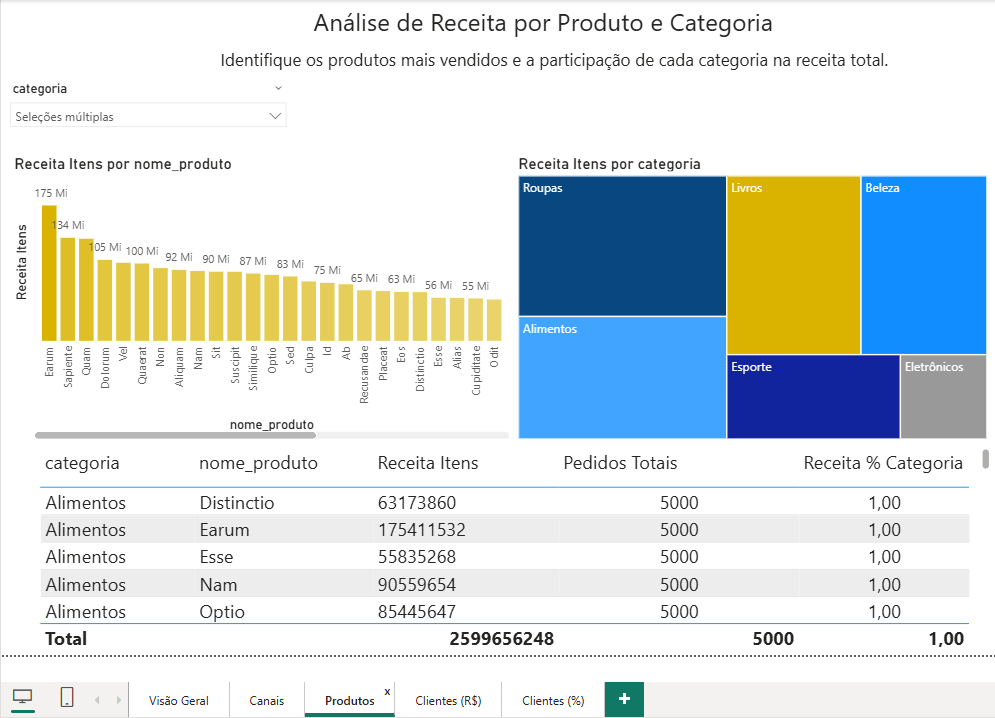

Layout of this report page (visuals, bound fields, positions):
{"tool":"powerbi","page":{"name":"Produtos","canvas":[1280,720],"ordinal":2},"visuals":[{"type":"columnChart","fields":{"Category":["products.nome_produto"],"Y":["Medidas.Receita Itens"]},"box":[10.4,169.6,553.8,318.5],"z":0},{"type":"treemap","fields":{"Group":["products.categoria"],"Values":["Medidas.Receita Itens"]},"box":[564.2,169.6,525,318.5],"z":1000},{"type":"tableEx","fields":{"Values":["products.categoria","products.nome_produto","Medidas.Receita Itens","Medidas.Pedidos Totais","Medidas.Receita % Categoria"]},"box":[36.9,488.1,1054.6,231.9],"z":2000},{"type":"slicer","fields":{"Values":["products.categoria"]},"box":[0,84.2,324.2,85.4],"z":3000},{"type":"textbox","box":[339.2,0,529.6,47.3],"z":4000},{"type":"textbox","box":[236.5,47.3,780,48.5],"z":5000}]}

Visuals, with their boxes on the page's 1280x720 design canvas (x1, y1, x2, y2). These are canvas units, not pixel positions in the 995x718 screenshot, which may show the page scaled, cropped or inside an application window:
columnChart - products.nome_produto x Medidas.Receita Itens: l=10, t=170, r=564, b=488
treemap - products.categoria x Medidas.Receita Itens: l=564, t=170, r=1089, b=488
tableEx - products.categoria x products.nome_produto: l=37, t=488, r=1092, b=720
slicer - products.categoria: l=0, t=84, r=324, b=170
textbox: l=339, t=0, r=869, b=47
textbox: l=236, t=47, r=1016, b=96
